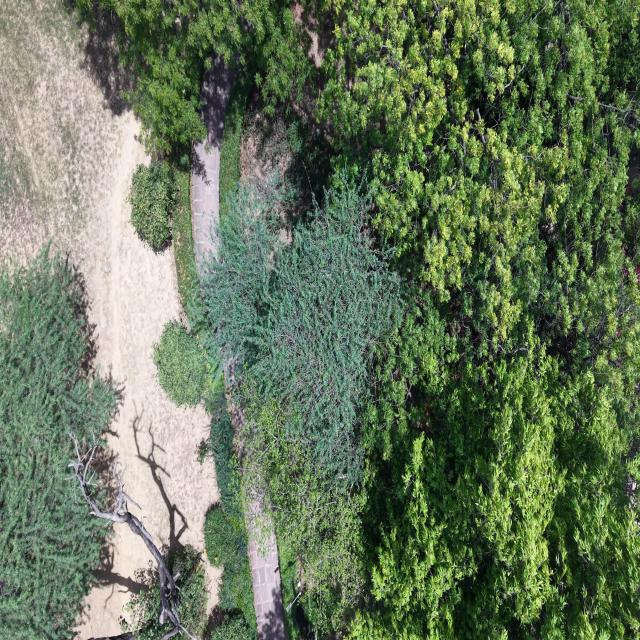DRY_AREA: (0, 0, 218, 550), (192, 56, 236, 273), (192, 57, 234, 273)
VEGETATION_TREE: (114, 0, 639, 639), (204, 2, 639, 638), (321, 2, 639, 637), (319, 0, 639, 361), (203, 185, 402, 627), (351, 348, 639, 637), (203, 185, 402, 484), (0, 248, 117, 639), (0, 259, 116, 637), (76, 0, 312, 159), (239, 398, 366, 634), (67, 432, 206, 639), (99, 0, 239, 153), (204, 372, 256, 639), (130, 156, 207, 336), (204, 382, 256, 639), (243, 100, 331, 228), (167, 157, 207, 343), (169, 154, 208, 344), (205, 505, 256, 639), (254, 6, 315, 116), (171, 164, 201, 334), (219, 69, 252, 217), (283, 114, 331, 214), (154, 321, 207, 406), (129, 163, 175, 249), (207, 378, 235, 509), (121, 568, 171, 639), (278, 542, 306, 638), (205, 504, 238, 566), (209, 612, 255, 639), (197, 439, 210, 465)
